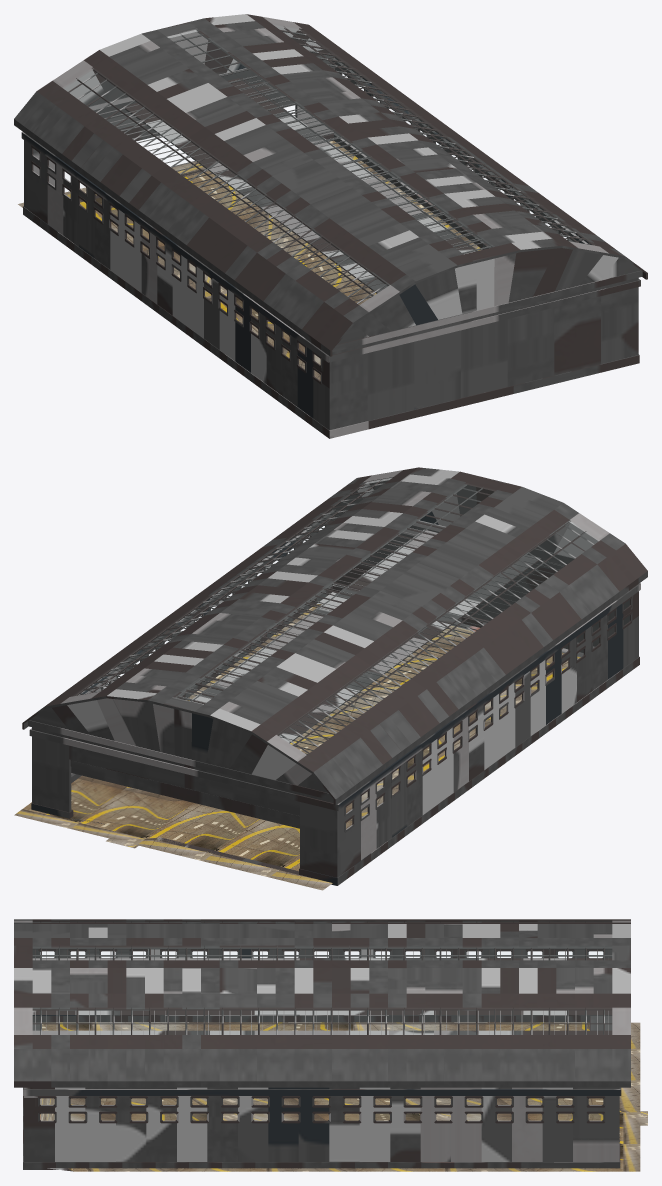
File: model_angar.glb
3 renders of one model, top to bottom at view 1: azimuth 30°, elevation 25°; view 2: azimuth 150°, elevation 25°; view 3: azimuth 270°, elevation 25°, orthographic. The views are drawn at different scales.
Parts seen in each view (by area): view 1: Plane.015; view 2: Plane.015; view 3: Plane.015.
Part boxes in pixels (x1=…): Plane.015: x1=14, y1=14, x2=647, y2=438; Plane.015: x1=14, y1=467, x2=647, y2=890; Plane.015: x1=14, y1=919, x2=647, y2=1171.
Bounding box in the file's own units: 42.3 × 18.48 × 74.17.
3 materials, 2 textured.
